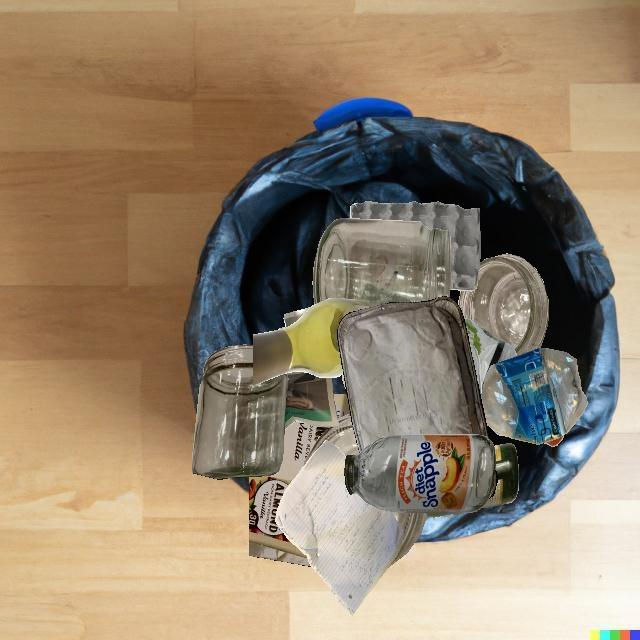cardboard: (249, 421, 331, 567), (350, 201, 481, 291)
glass: (192, 344, 288, 480), (313, 218, 451, 307), (344, 434, 496, 514), (253, 298, 373, 386), (458, 254, 549, 356), (302, 414, 359, 468), (480, 443, 519, 508), (388, 511, 427, 567), (468, 339, 482, 396)
metal: (337, 296, 490, 453)
paper: (275, 440, 404, 615), (284, 371, 339, 431), (342, 374, 346, 391)
plastic: (480, 348, 587, 444), (462, 313, 517, 393), (481, 393, 560, 438)
